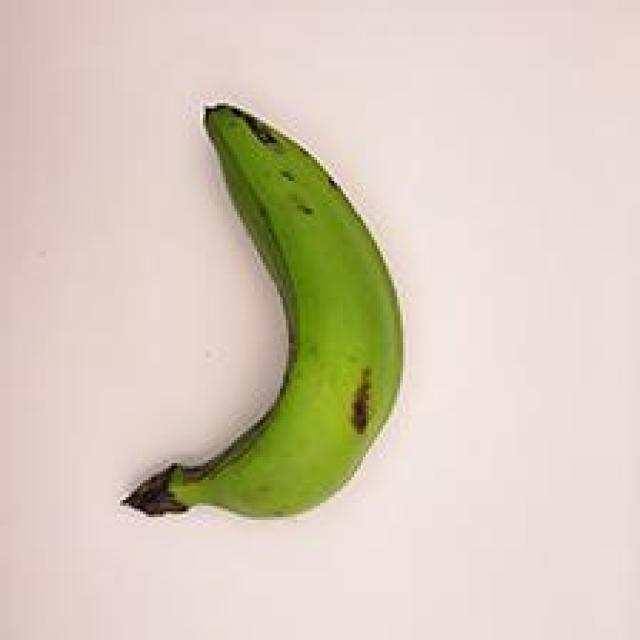Raw: (119, 86, 422, 530)
